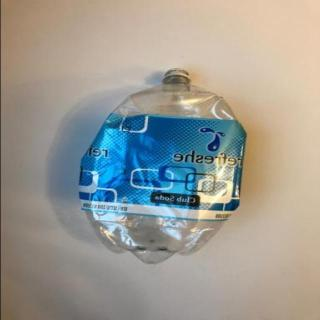Anorganik: (74, 63, 254, 269)
